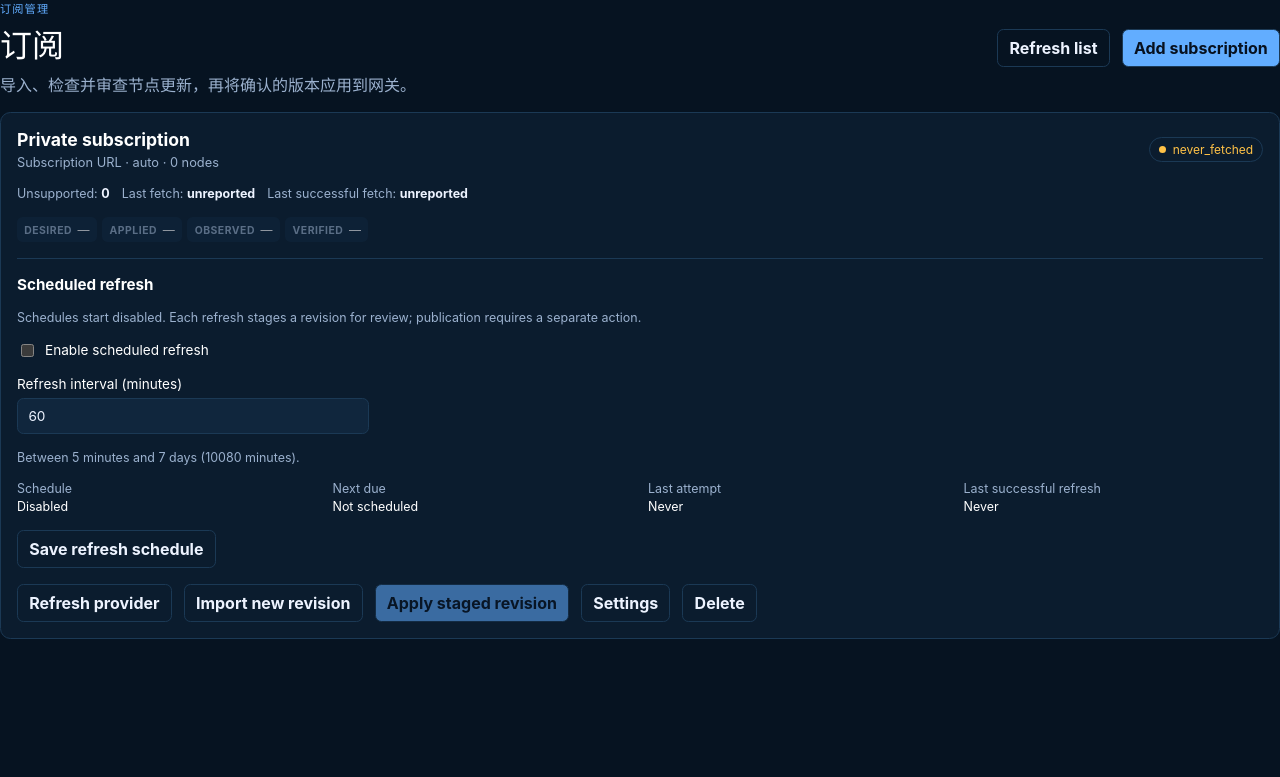
it: provider settings and deletion › keeps a conflicted settings draft without claiming a saved revision
Step 1. Click the button "Settings" → coordinates (626, 603), box [581,584,670,622]
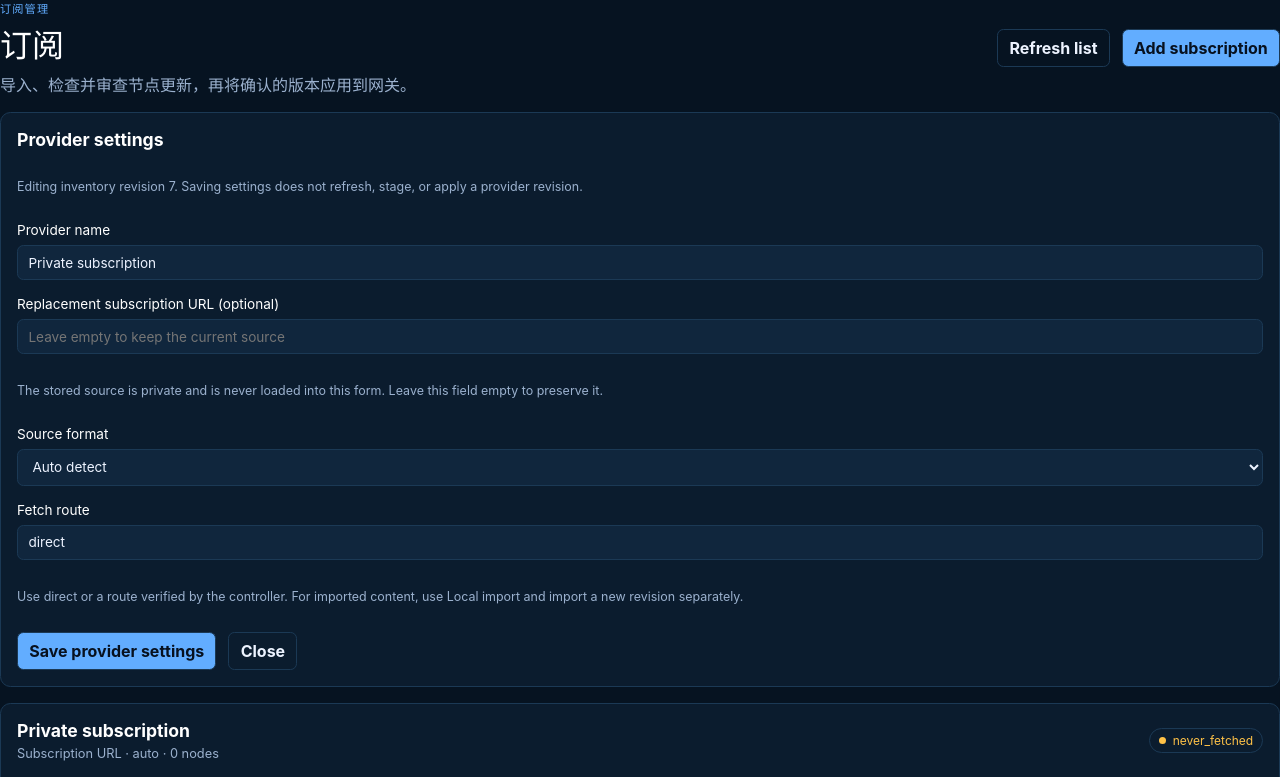
Step 2. Replace the text in the field labelled "Provider name" with "My draft" → coordinates (640, 262), box [17,245,1263,280]
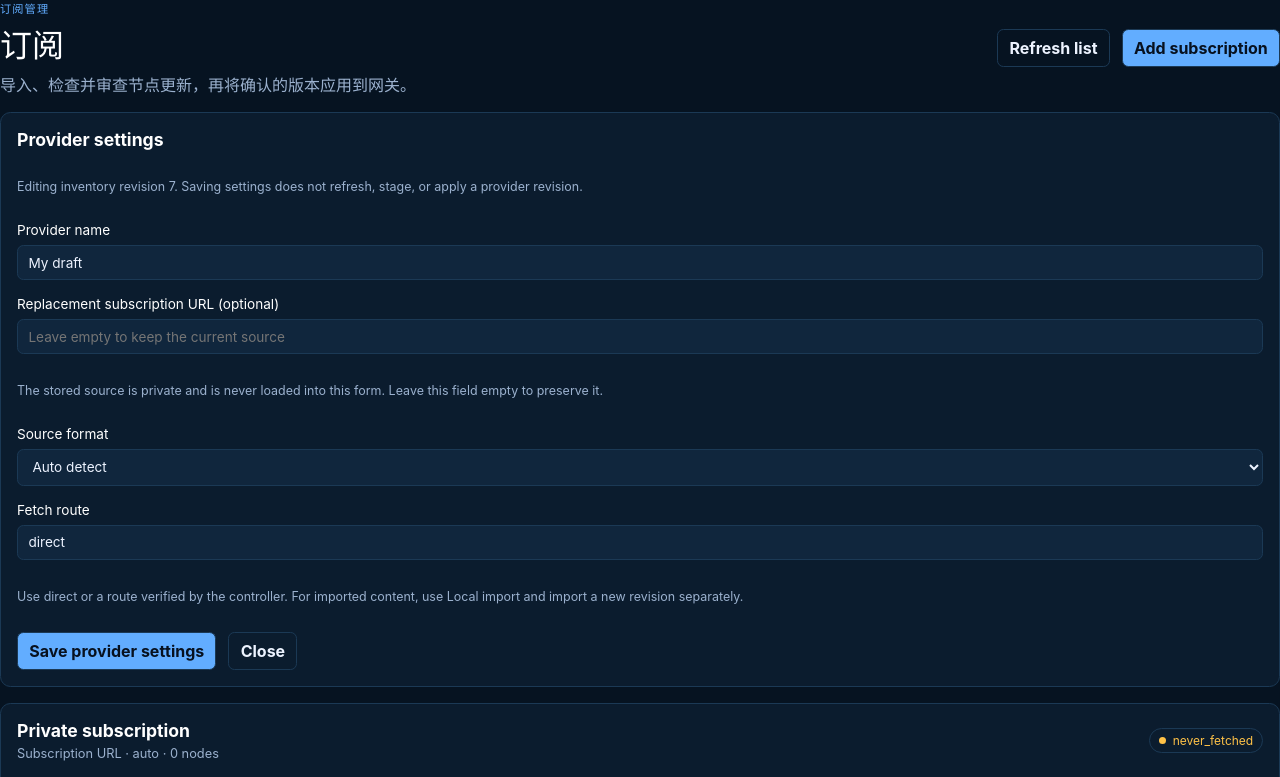
Step 3. Submit the form named "Provider settings"
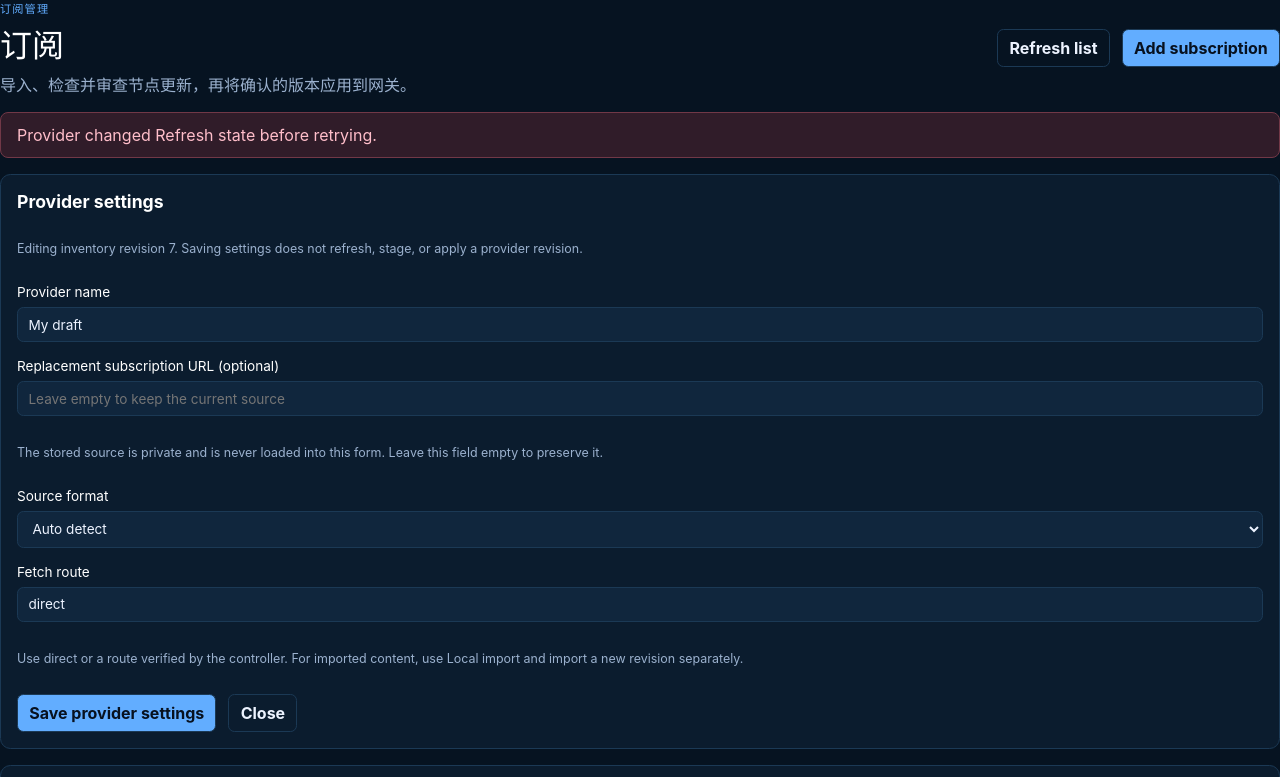
Expected: the text "Provider changed Refresh state before retrying." is shown, [0,112,1279,158]
